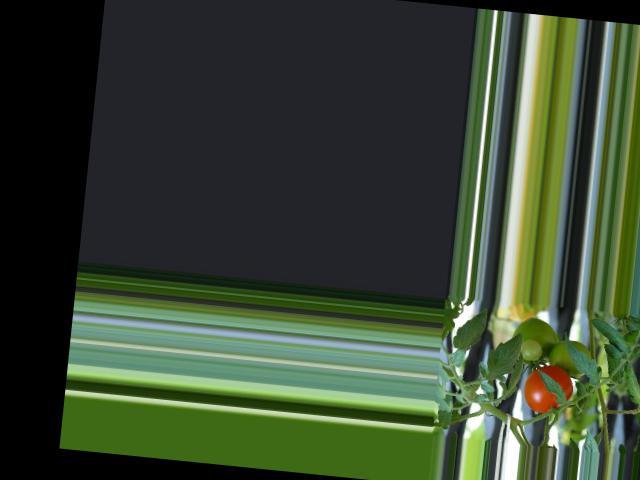tomato: (521, 363, 574, 416)
